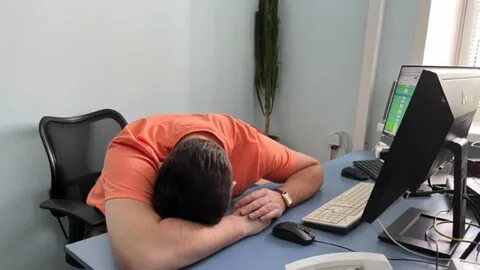sleep: (85, 112, 326, 267)
